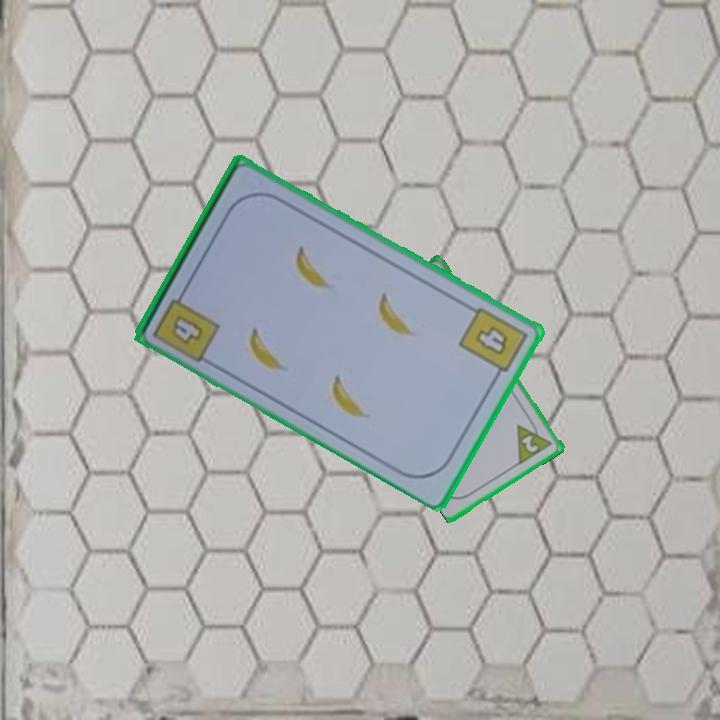2p: (518, 431, 542, 456)
4b: (455, 303, 531, 384), (149, 284, 223, 366)
